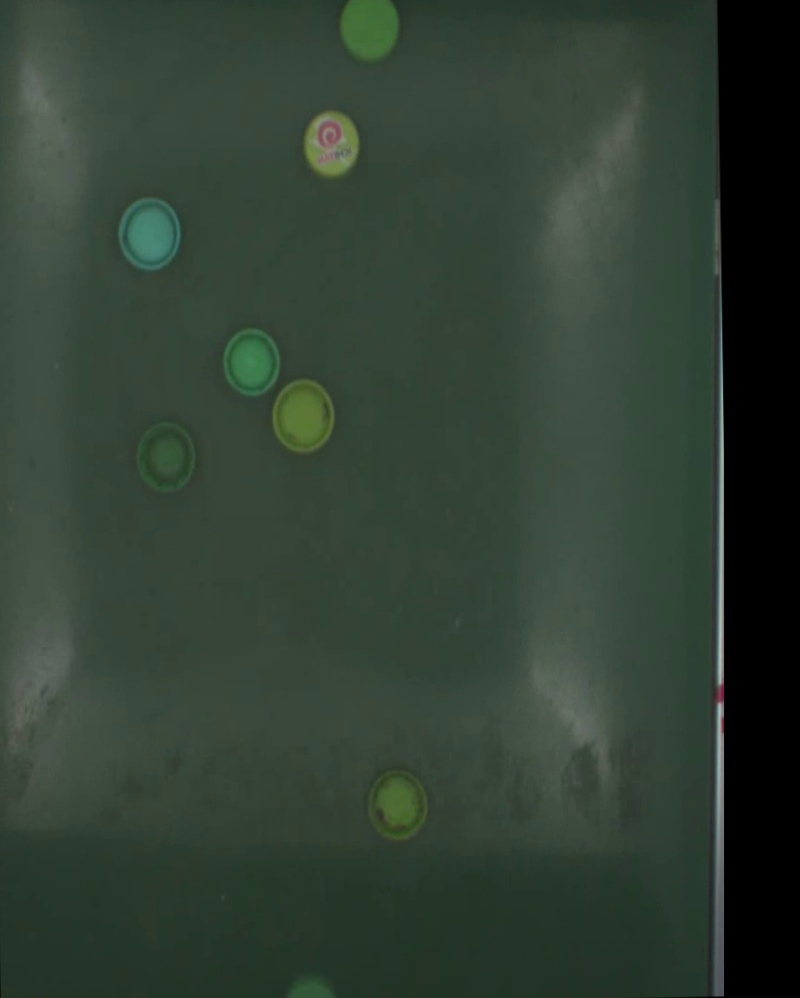Others: (271, 380, 336, 455), (117, 198, 181, 272), (135, 422, 198, 495), (367, 772, 429, 842), (221, 327, 282, 397), (302, 112, 361, 180), (338, 0, 401, 63)
